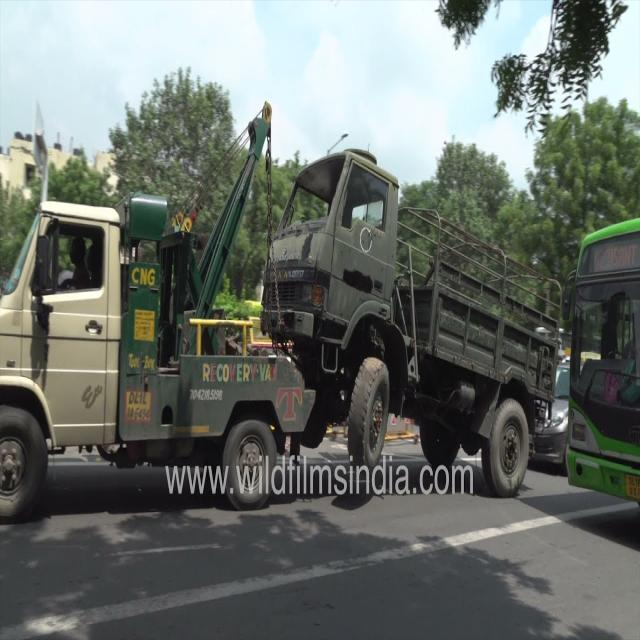truck: (0, 107, 315, 519), (261, 149, 561, 498)
